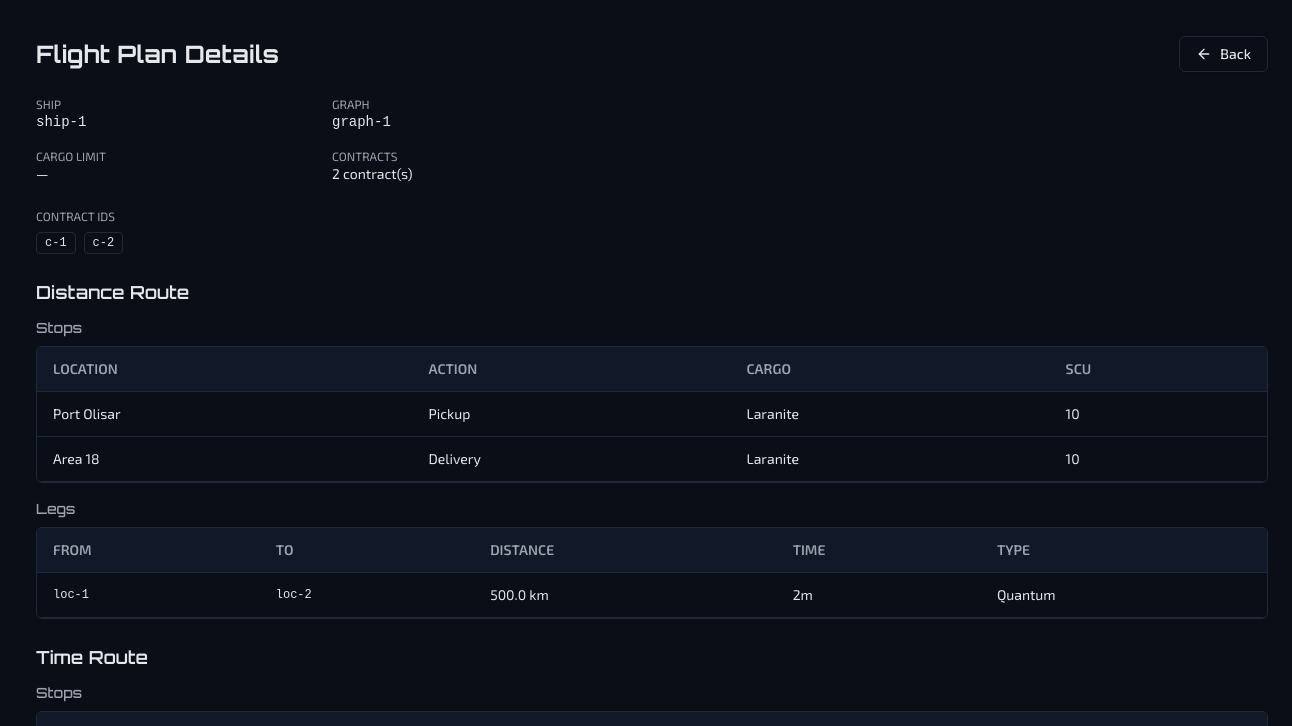
Test: FlightPlanDetailPage › navigates back to list on Back click
The width and height of the screenshot is (1292, 726).
expect the heading "Flight Plan Details" is shown: met, box [36, 38, 279, 70]
Click the button "Back": point(1224, 54) [1179, 36, 1268, 72]
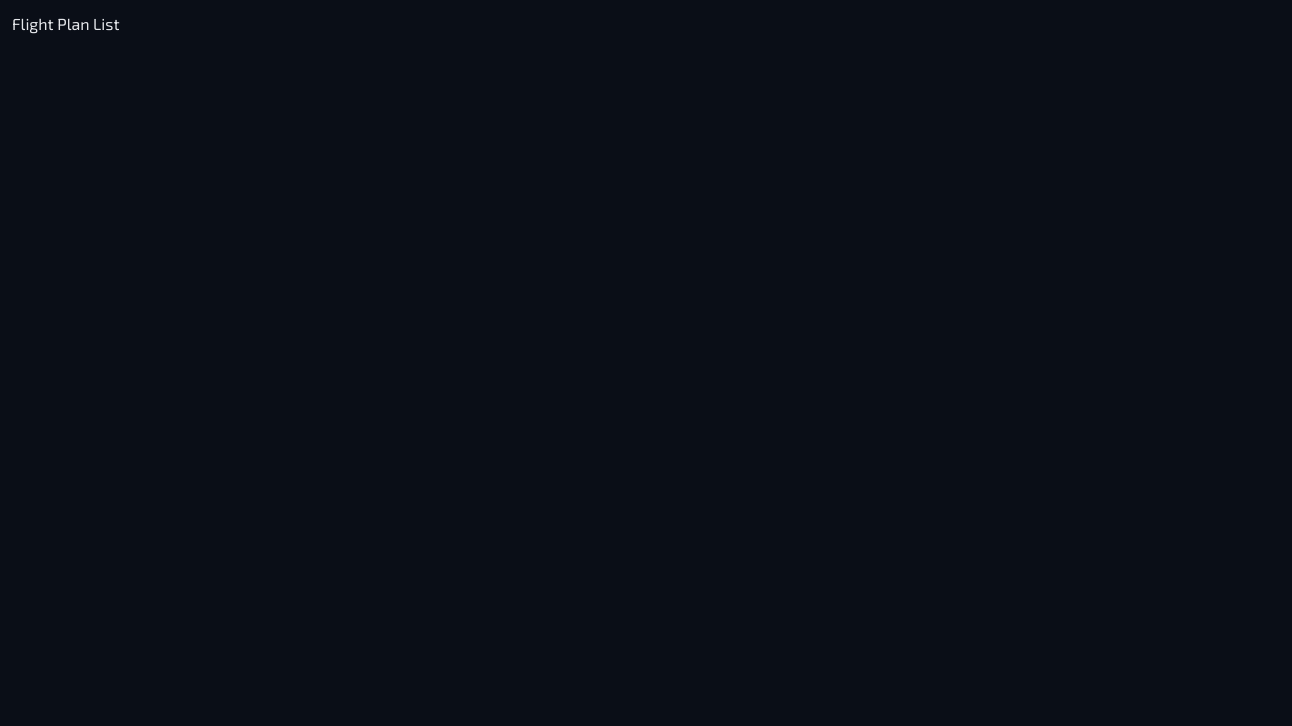
expect the text "Flight Plan List" is shown: met, box [12, 14, 120, 33]
